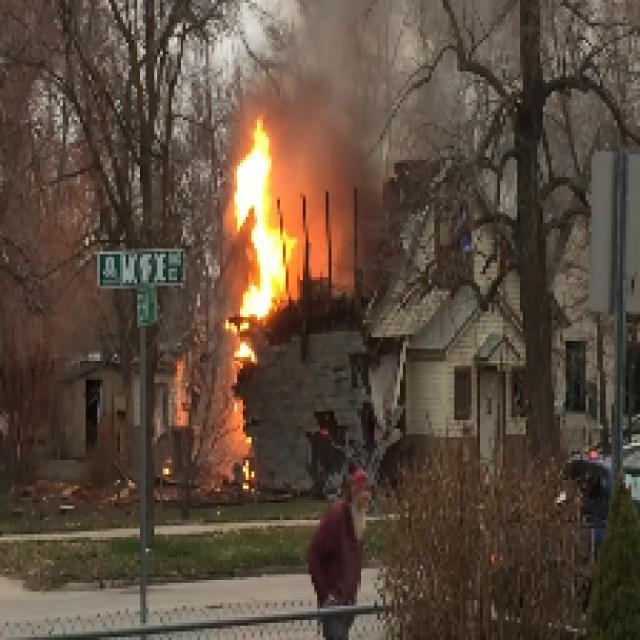Fire: (232, 125, 288, 300)
Smoke: (284, 14, 362, 258)
